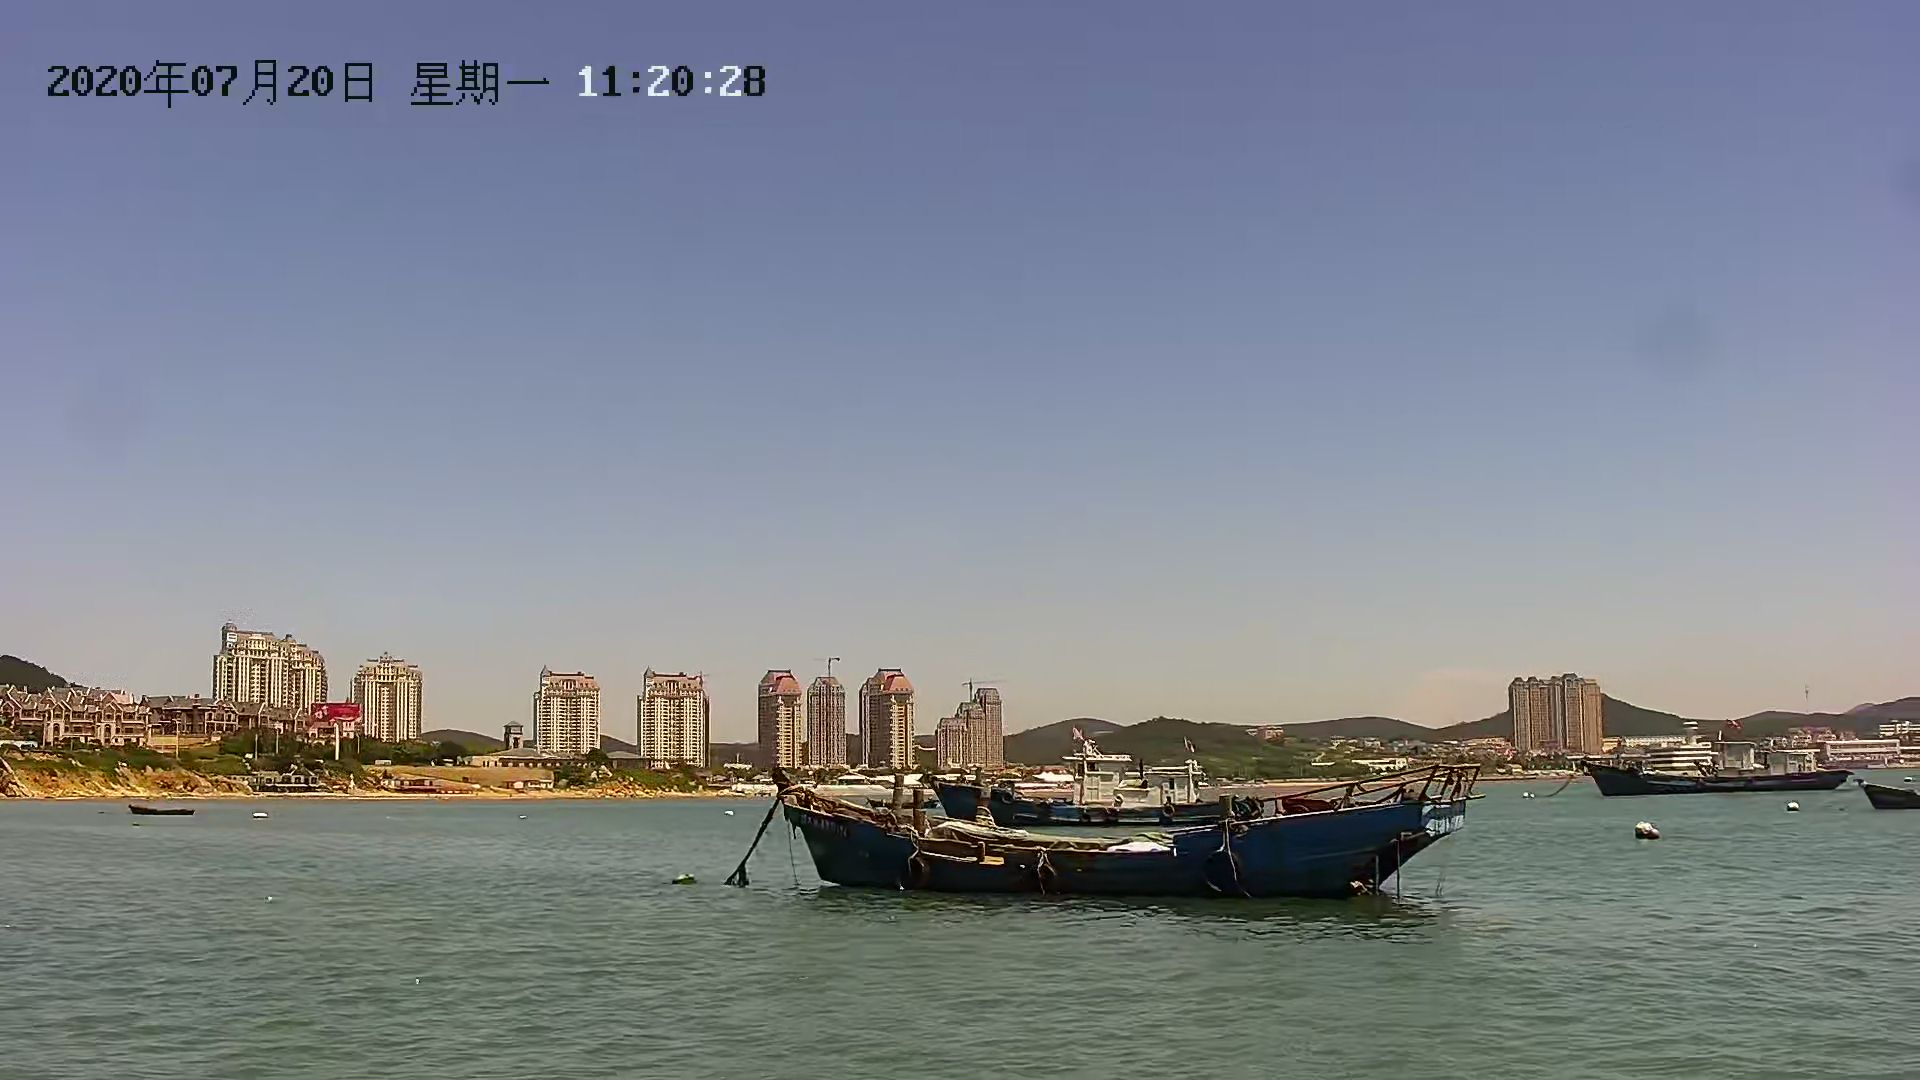ball: (1619, 818, 1669, 843)
boat: (744, 765, 1494, 913), (1576, 735, 1857, 790), (117, 796, 200, 818)
